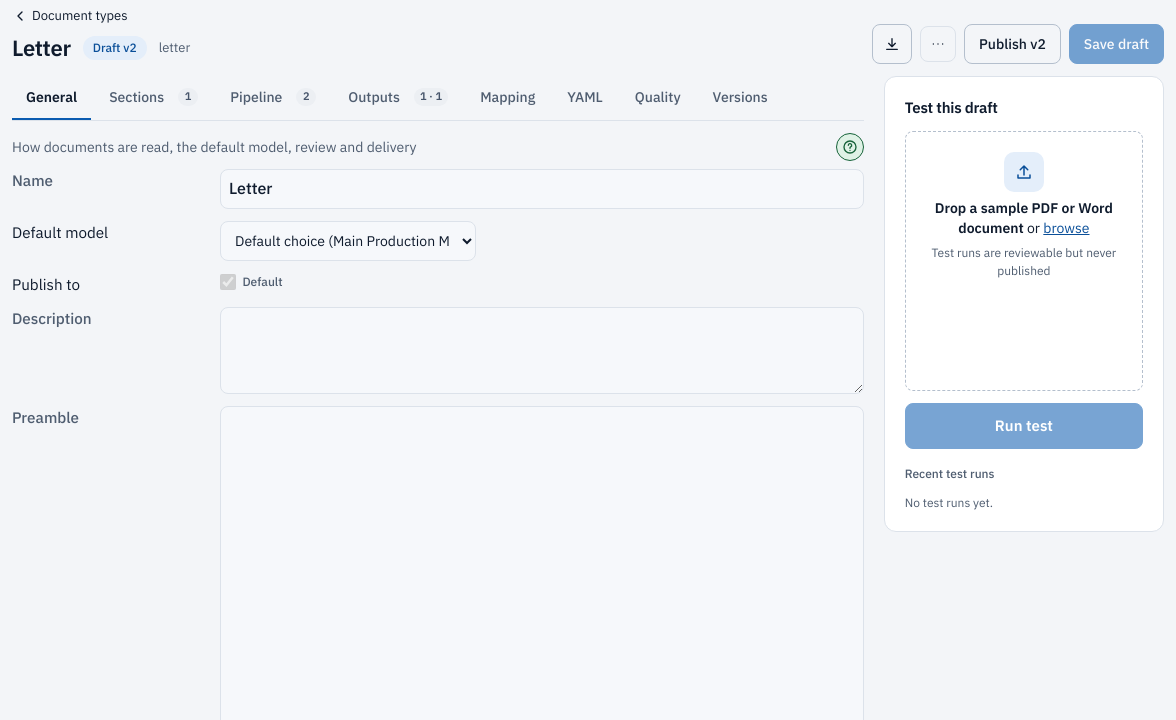
Scenario: recipe editor keeps unsaved edits › keeps nothing once saved or discarded
Type " (edited)" into the field labelled "Name" at (542, 189), box x1=220 y1=169 x2=864 y2=209
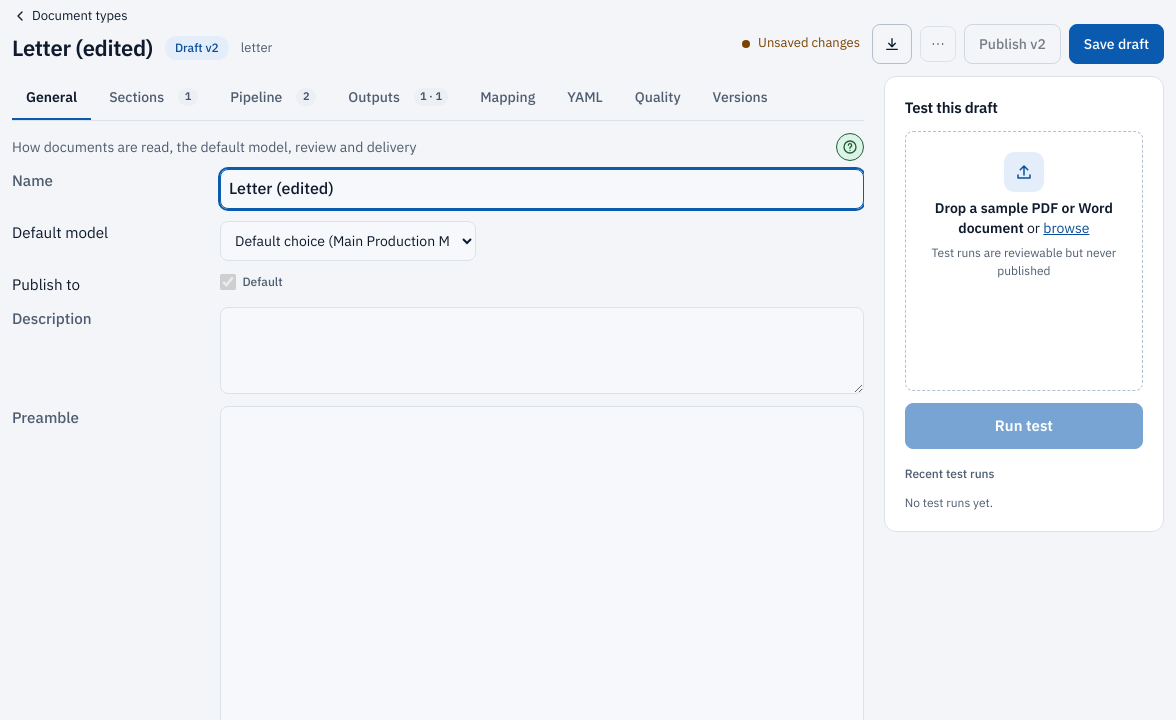
Click the button "Save draft" at (1116, 44), box x1=1069 y1=24 x2=1164 y2=64
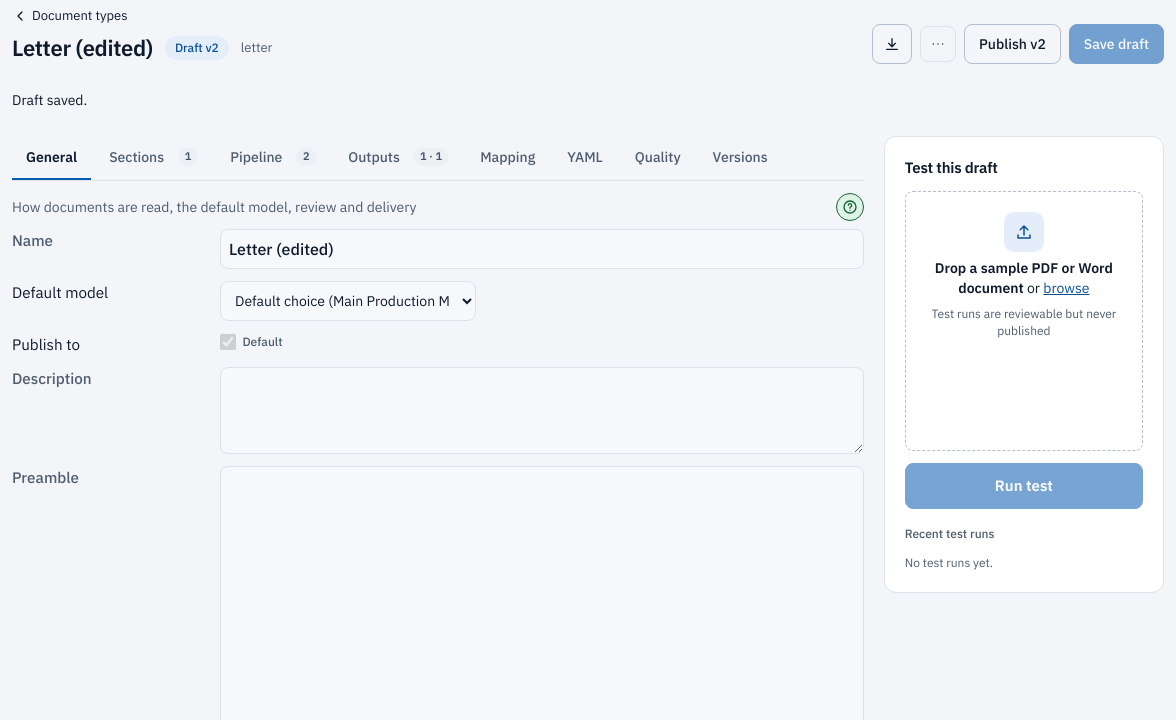
expect the text "Unsaved changes" is gone: met
